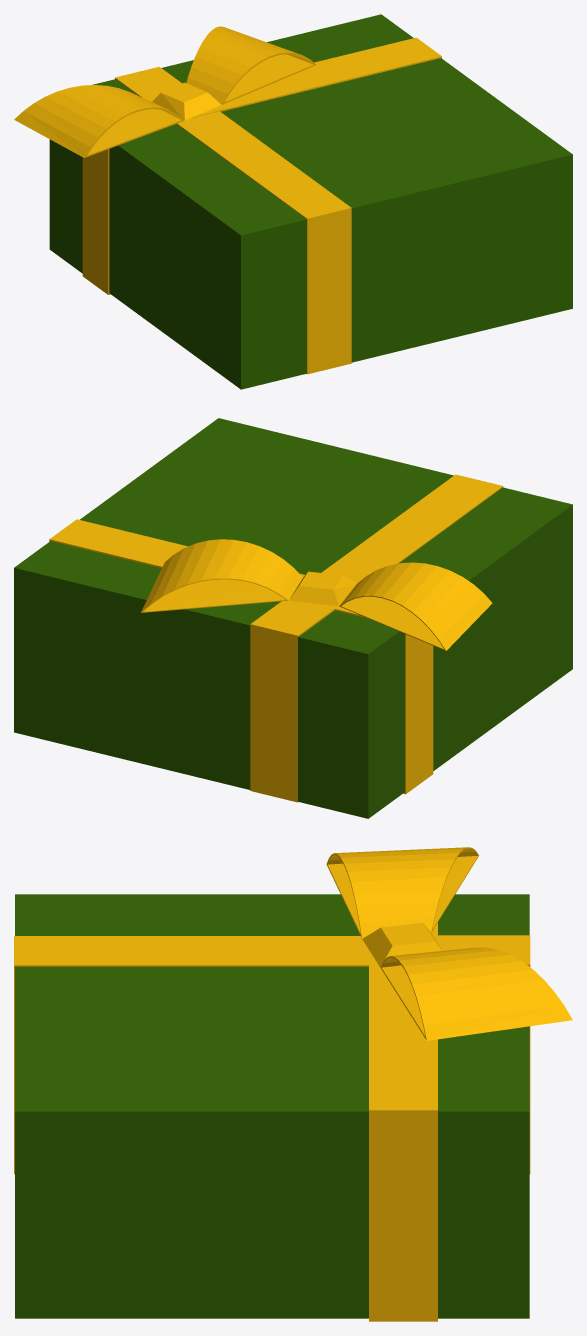
File: Prop_Christmas_Present_Green_04.FBX
3 views of the same model, one above another, from view 1: azimuth 30°, elevation 25°; view 2: azimuth 150°, elevation 25°; view 3: azimuth 270°, elevation 25° (orthographic). The views are drawn at different scales.
Parts seen in each view (by area): view 1: Prop_Christmas_Present_Green_04; view 2: Prop_Christmas_Present_Green_04; view 3: Prop_Christmas_Present_Green_04.
Part boxes in pixels (bbox=[...]): Prop_Christmas_Present_Green_04: bbox=[14, 14, 572, 389]; Prop_Christmas_Present_Green_04: bbox=[14, 418, 572, 818]; Prop_Christmas_Present_Green_04: bbox=[14, 847, 572, 1321].
Size of the model in its own units: 387 by 178 by 360.
